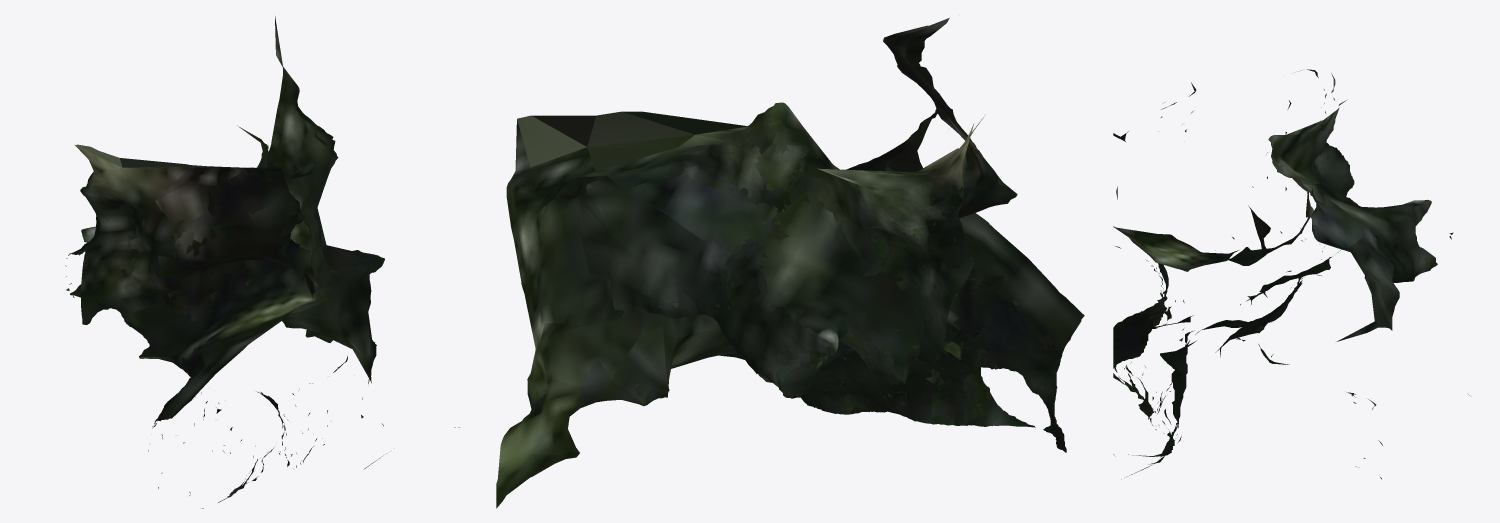
The picture shows the model from 3 angles, left to right: view 1: azimuth 30°, elevation 25°; view 2: azimuth 150°, elevation 25°; view 3: azimuth 270°, elevation 25°; orthographic projection. The views are drawn at different scales.
Size of the model in its own units: 0.4915 by 0.4915 by 0.4915.
1 material, 1 textured.
